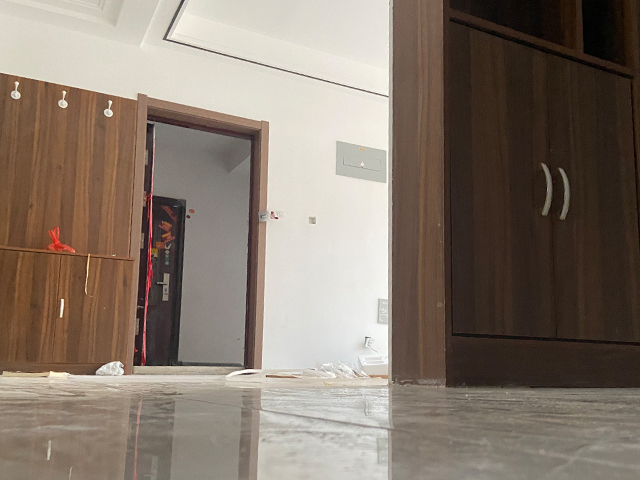cabinet: (391, 1, 640, 388), (1, 246, 137, 375)
